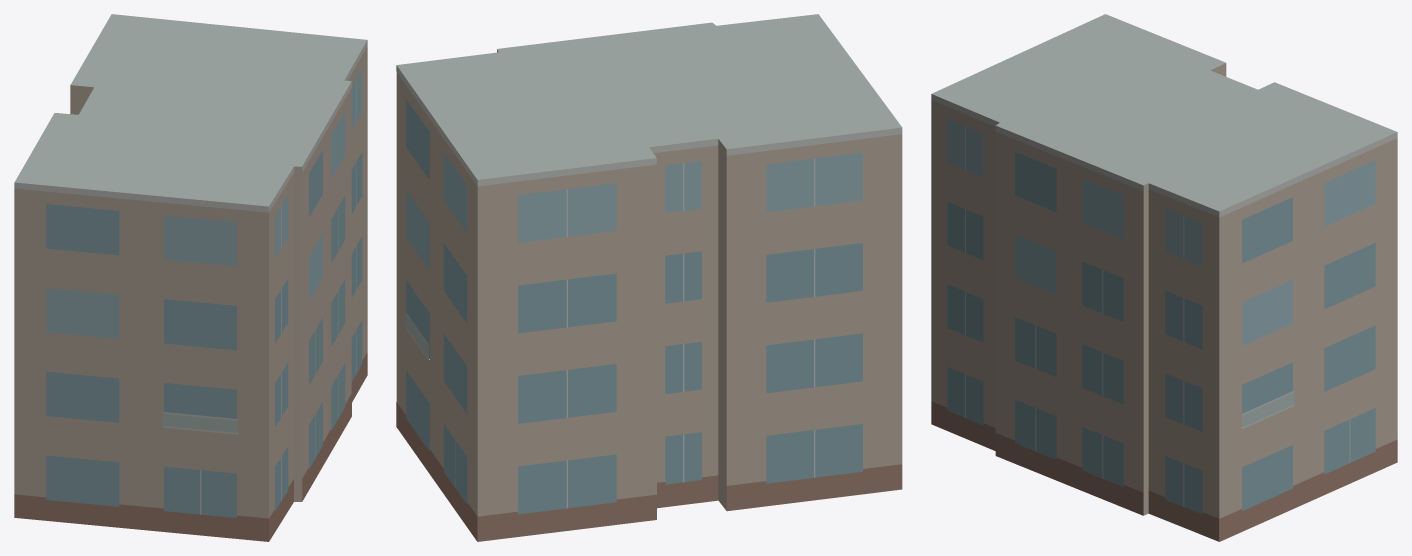
The model's file is survey-upis-32658144.glb.
3 views of the same model, side by side, from view 1: azimuth 30°, elevation 25°; view 2: azimuth 150°, elevation 25°; view 3: azimuth 270°, elevation 25° (orthographic). The views are drawn at different scales.
Visible parts, largest first — view 1: survey-upis-32658144.tmp; view 2: survey-upis-32658144.tmp; view 3: survey-upis-32658144.tmp.
Boxes of the visible parts, left/top/right/bottom form: survey-upis-32658144.tmp: left=14, top=14, right=367, bottom=541; survey-upis-32658144.tmp: left=396, top=14, right=902, bottom=541; survey-upis-32658144.tmp: left=931, top=14, right=1397, bottom=541.
Size of the model in its own units: 17.26 by 13.45 by 17.21.
